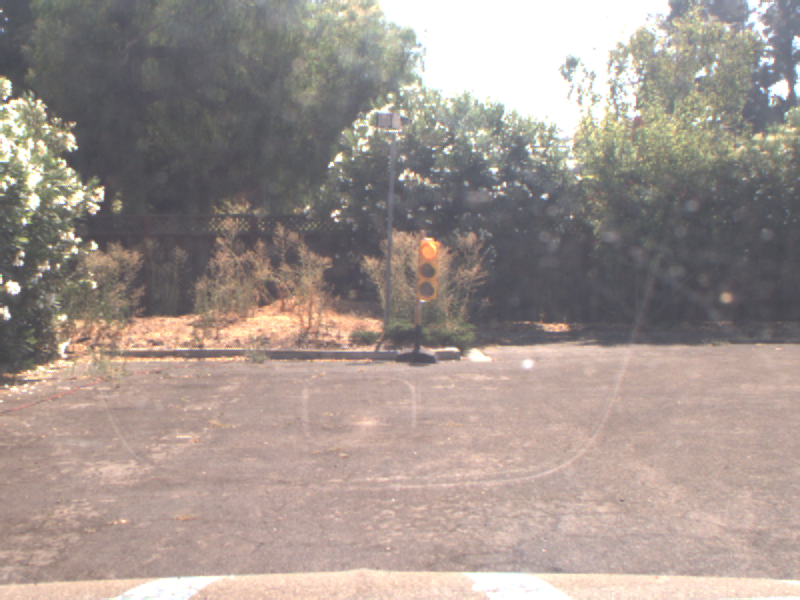red: (415, 235, 438, 305)
